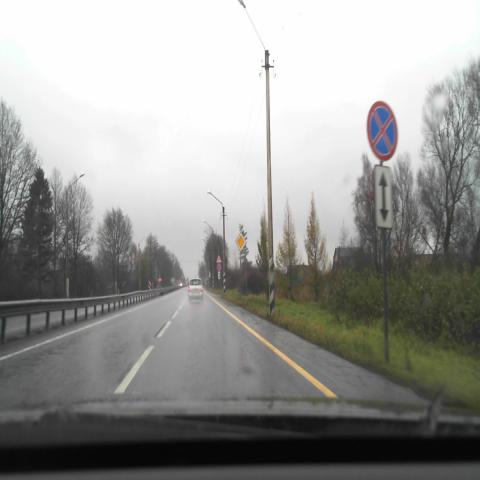8_2_4: (374, 165, 393, 228)
